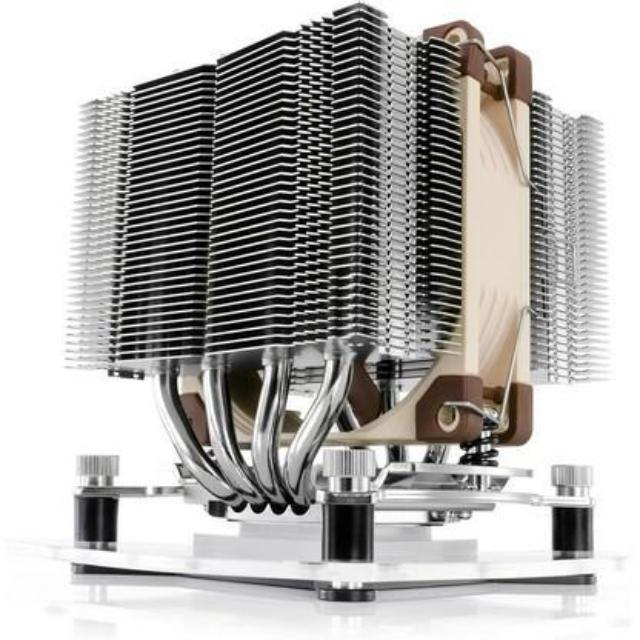CPU_Fan: (59, 4, 619, 606)
